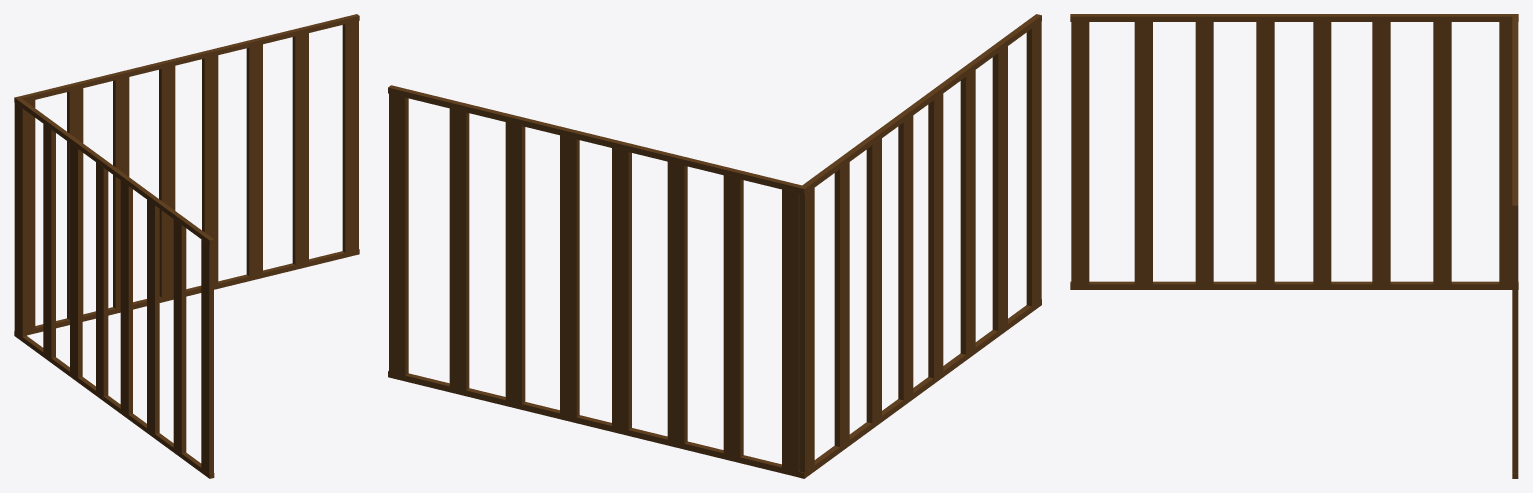
Rendered from RailingCorner.fbx.
3 views of the same model, side by side, from view 1: azimuth 30°, elevation 25°; view 2: azimuth 150°, elevation 25°; view 3: azimuth 270°, elevation 25° (orthographic). The views are drawn at different scales.
Parts seen in each view (by area): view 1: pCube15; view 2: pCube15; view 3: pCube15.
Part boxes in pixels (x1,y1,x2,y2): pCube15: (14,14,359,478); pCube15: (388,14,1041,478); pCube15: (1070,14,1518,478).
Size of the model in its own units: 1.55 by 1.03 by 1.53.
